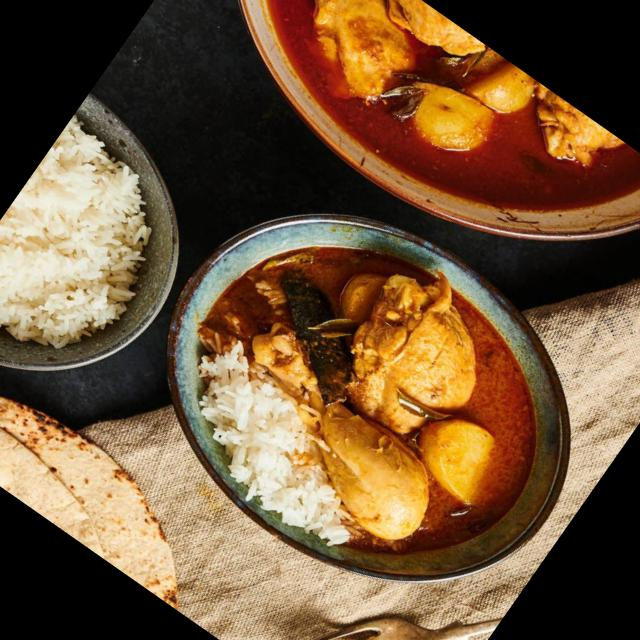chicken: (206, 198, 607, 578), (156, 0, 640, 311)
rice: (152, 338, 395, 554), (0, 124, 185, 387)
roti: (0, 330, 211, 598)
